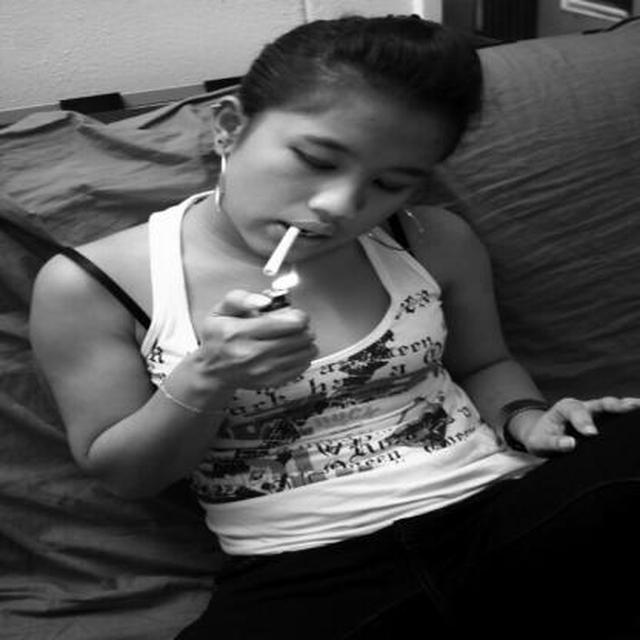smoking: (261, 214, 304, 287)
